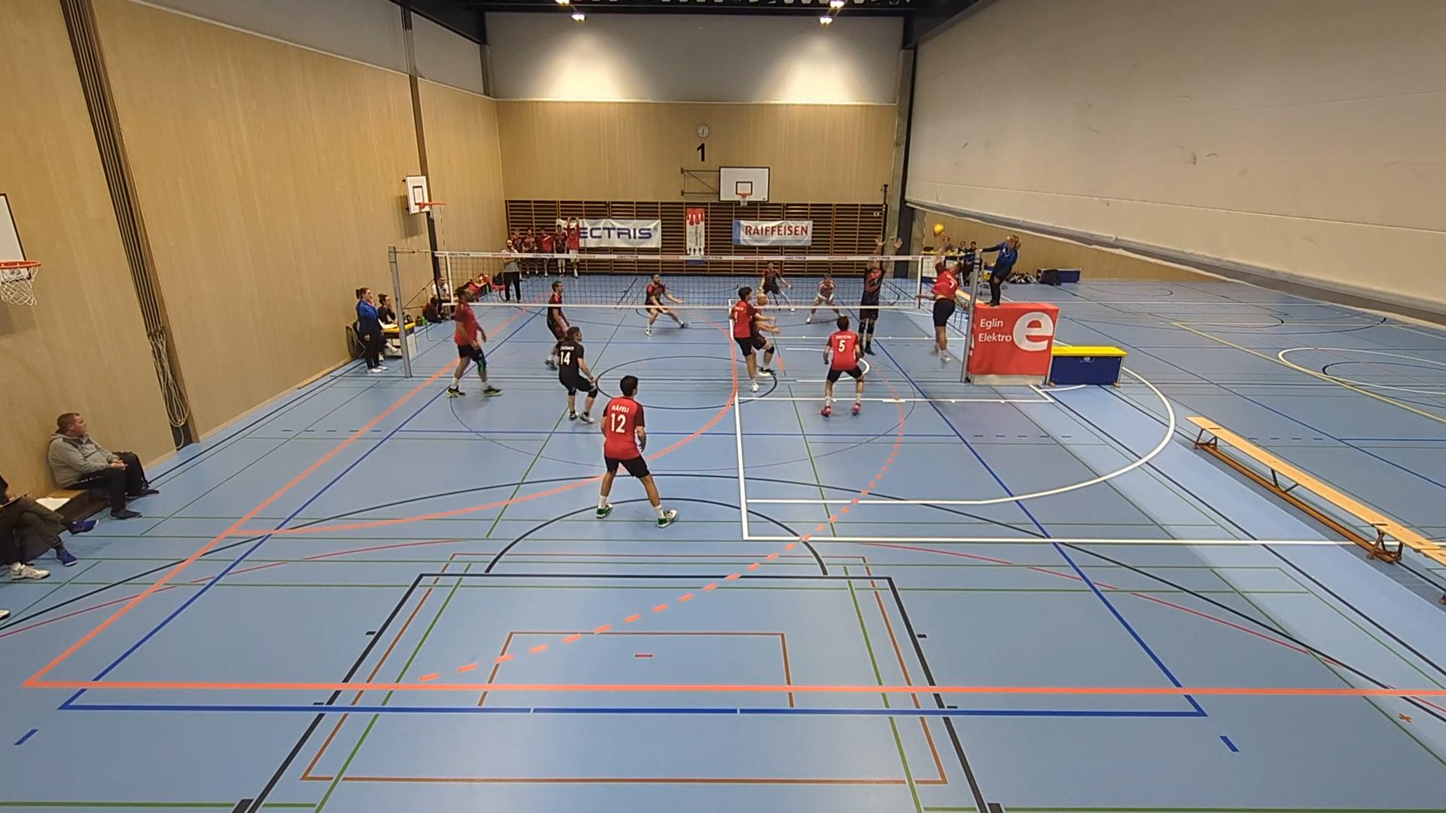Attack: (925, 236, 981, 366)
Block: (851, 222, 903, 362)
Player: (596, 375, 677, 527), (447, 291, 501, 396), (821, 315, 864, 416), (554, 326, 598, 422), (730, 286, 758, 391), (645, 275, 687, 335), (751, 292, 779, 376), (806, 271, 841, 323), (761, 262, 793, 309), (546, 282, 568, 341)
ball: (934, 221, 947, 233)
